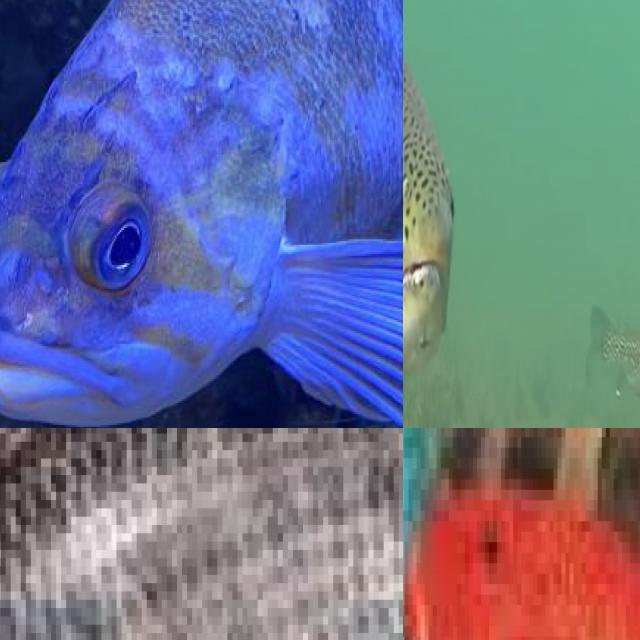fish: (0, 0, 403, 428), (0, 428, 403, 640)
